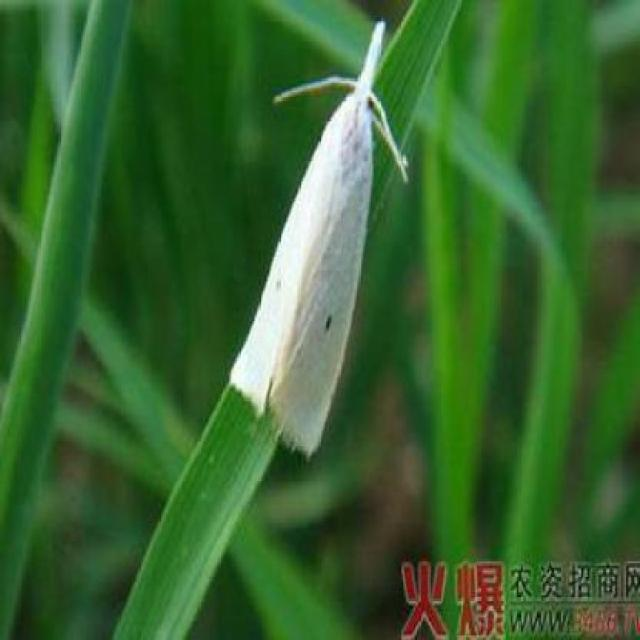stem-borer: (229, 14, 413, 466)
